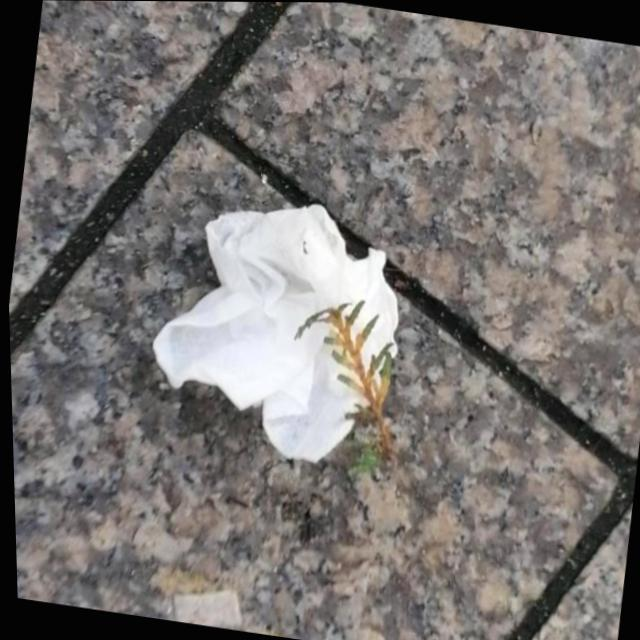Paper: (129, 181, 418, 475)
